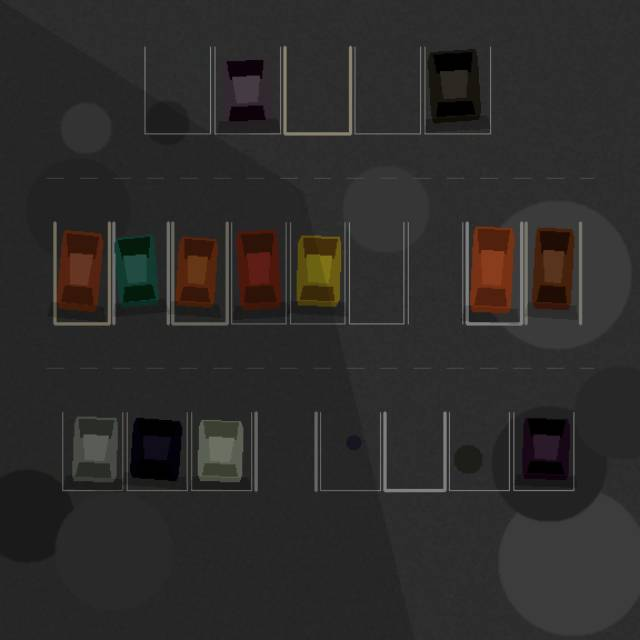space-empty: (144, 47, 210, 133), (284, 47, 350, 133), (354, 47, 420, 133), (349, 222, 403, 323), (408, 222, 462, 323), (256, 412, 316, 490), (320, 412, 380, 490), (384, 412, 444, 490), (449, 412, 509, 490)
space-occupied: (214, 47, 280, 133), (424, 47, 490, 133), (54, 222, 109, 323), (113, 222, 168, 323), (172, 222, 227, 323), (231, 222, 286, 323), (290, 222, 344, 323), (467, 222, 521, 323), (526, 222, 580, 323), (62, 412, 122, 490), (127, 412, 187, 490), (191, 412, 251, 490), (513, 412, 573, 490)
